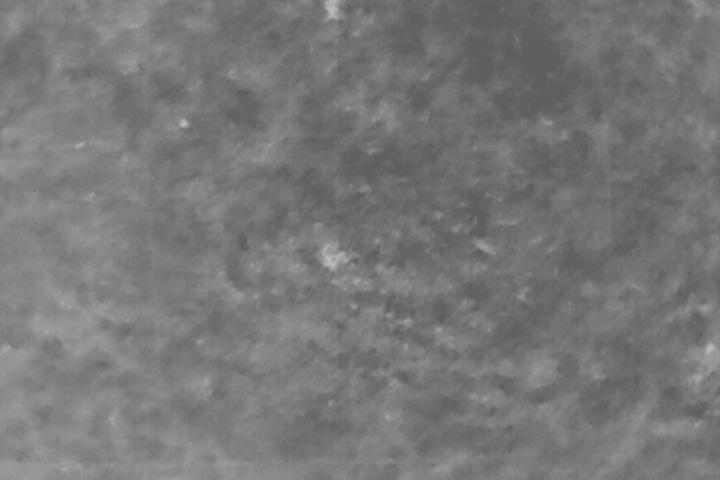landmine: (317, 239, 353, 274)
